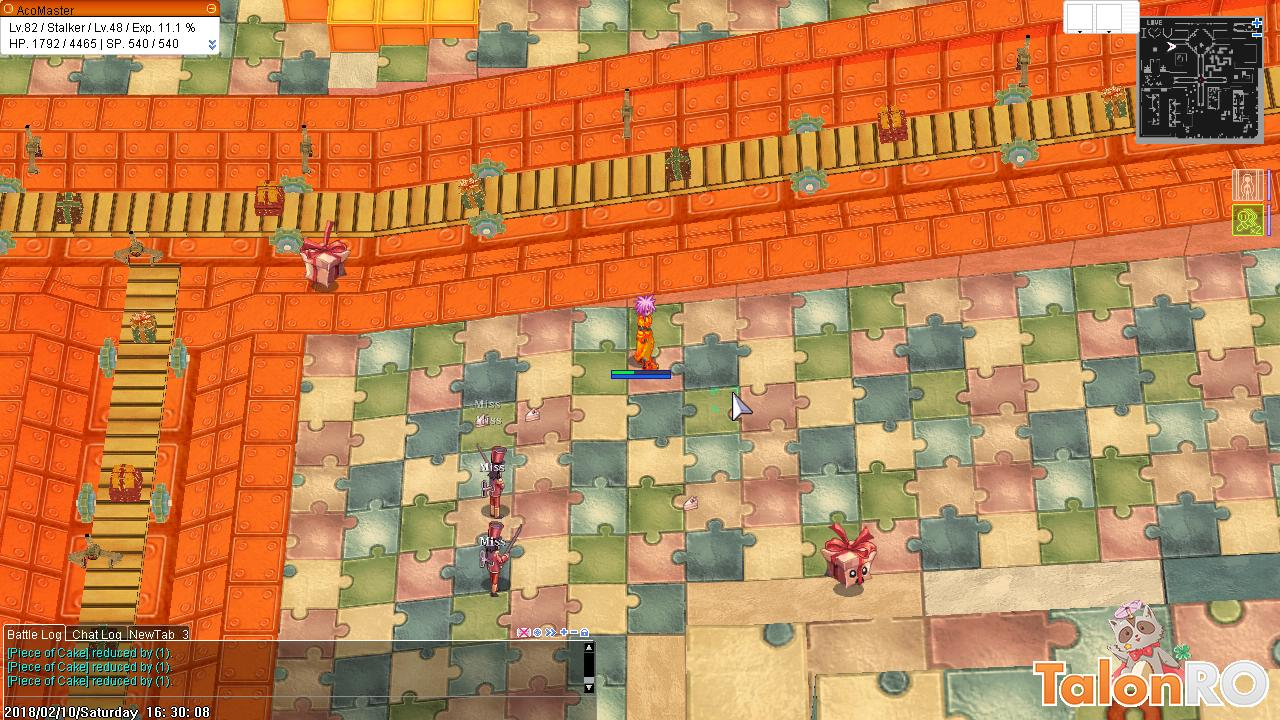loot: (678, 491, 702, 516), (469, 410, 496, 432), (522, 405, 543, 426)
mob: (813, 518, 882, 598), (296, 212, 355, 300), (477, 515, 523, 608), (475, 438, 517, 523)
